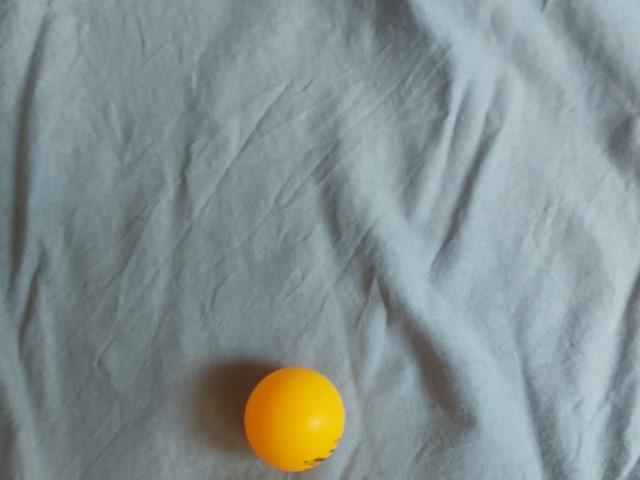oball: (284, 5, 406, 122)
